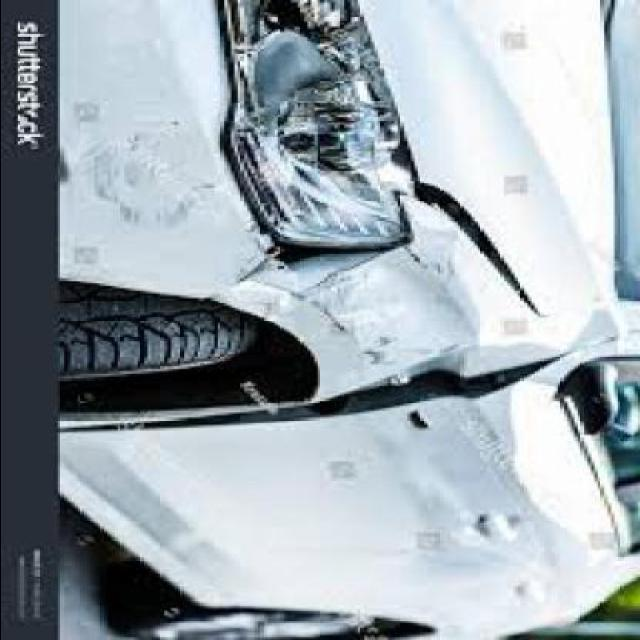Headlight-Damage: (208, 0, 422, 246)
fender-dent: (209, 204, 570, 436)
